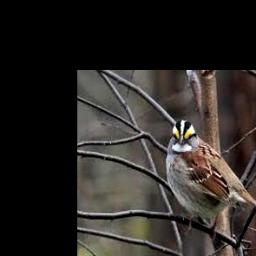Sparrow: (166, 120, 256, 232)
